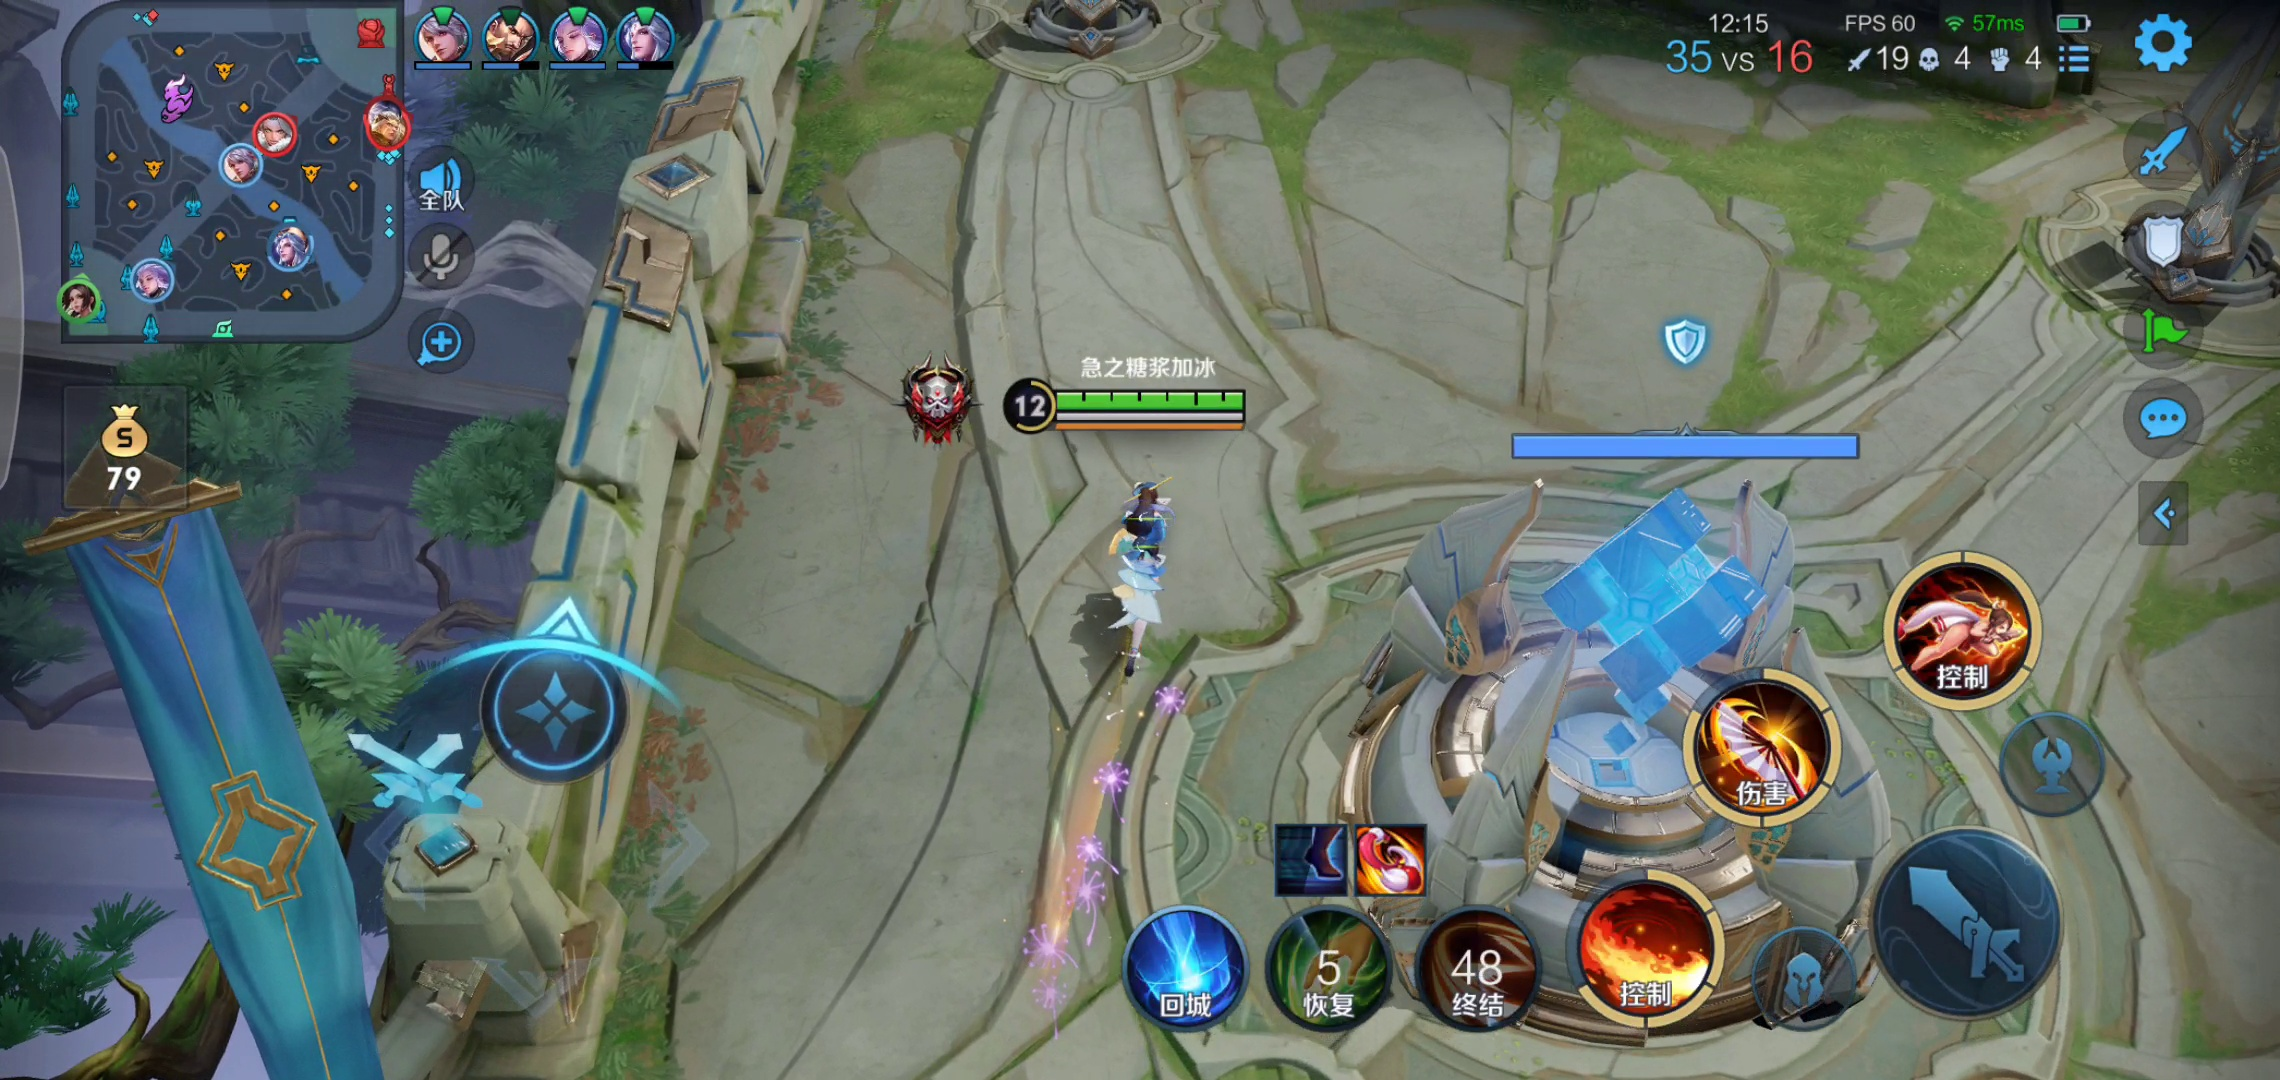crystal: (1348, 455, 1903, 1055)
hero: (1083, 472, 1189, 682)
tower: (2049, 26, 2279, 281), (966, 1, 1187, 65)
